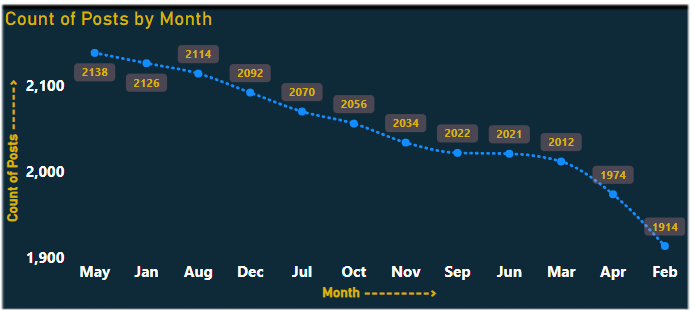

The page's visual inventory and layout, read from the dashboard file:
{"tool":"powerbi","page":{"name":"Page 2","canvas":[1280,720],"ordinal":1},"visuals":[{"type":"lineChart","title":"Count of Posts by Month","fields":{"Category":["Final_dataset.Month"],"Y":["CountNonNull(Final_dataset.Content ID)"]},"box":[360.8,186.1,699,368.9],"z":0}]}

Visuals, with their boxes on the page's 1280x720 design canvas (x1, y1, x2, y2). These are canvas units, not pixel positions in the 694x310 screenshot, which may show the page scaled, cropped or inside an application window:
"Count of Posts by Month" lineChart: 361 186 1060 555
